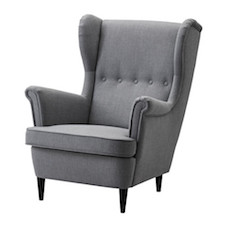chair: (14, 11, 200, 209)
